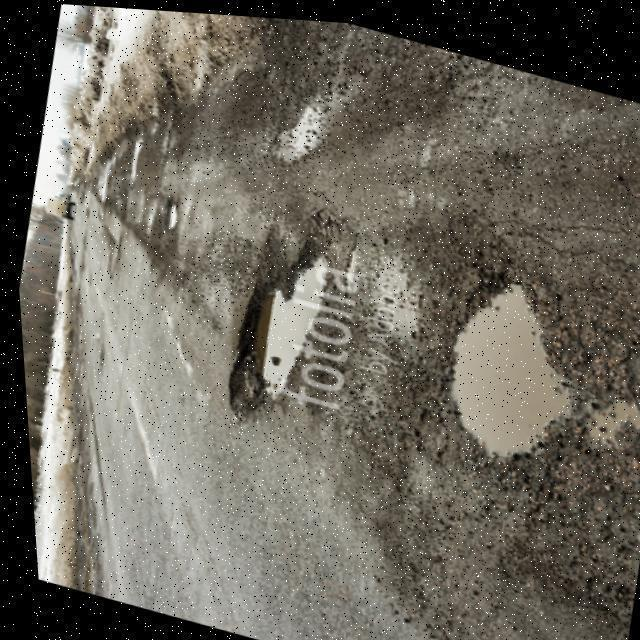Pothole: (225, 228, 332, 420), (452, 285, 570, 456)
